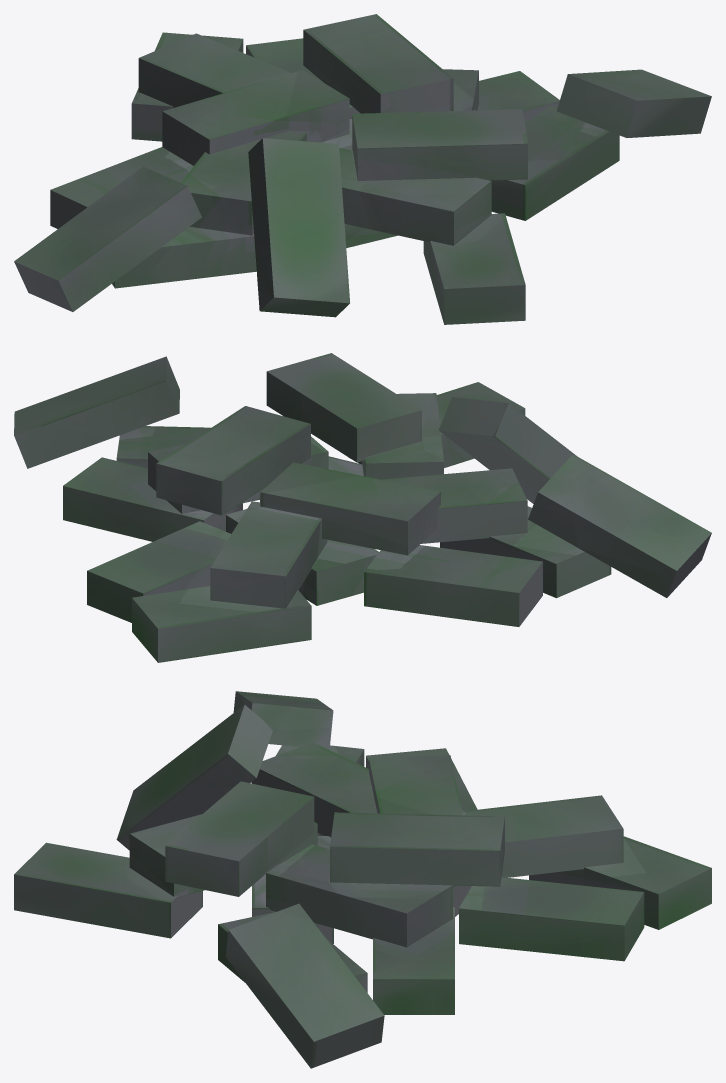
The model's file is rubble.fbx.
3 views of the same model, one above another, from view 1: azimuth 30°, elevation 25°; view 2: azimuth 150°, elevation 25°; view 3: azimuth 270°, elevation 25° (orthographic). The views are drawn at different scales.
Visible parts, largest first — view 1: Cube.006; view 2: Cube.006; view 3: Cube.006.
Boxes of the visible parts, x1,y1,x2,y2 form: Cube.006: [14, 14, 711, 324]; Cube.006: [14, 353, 711, 662]; Cube.006: [14, 691, 711, 1068].
Bounding box in the file's own units: 1.47 × 0.2992 × 1.28.
1 material, 1 textured.
